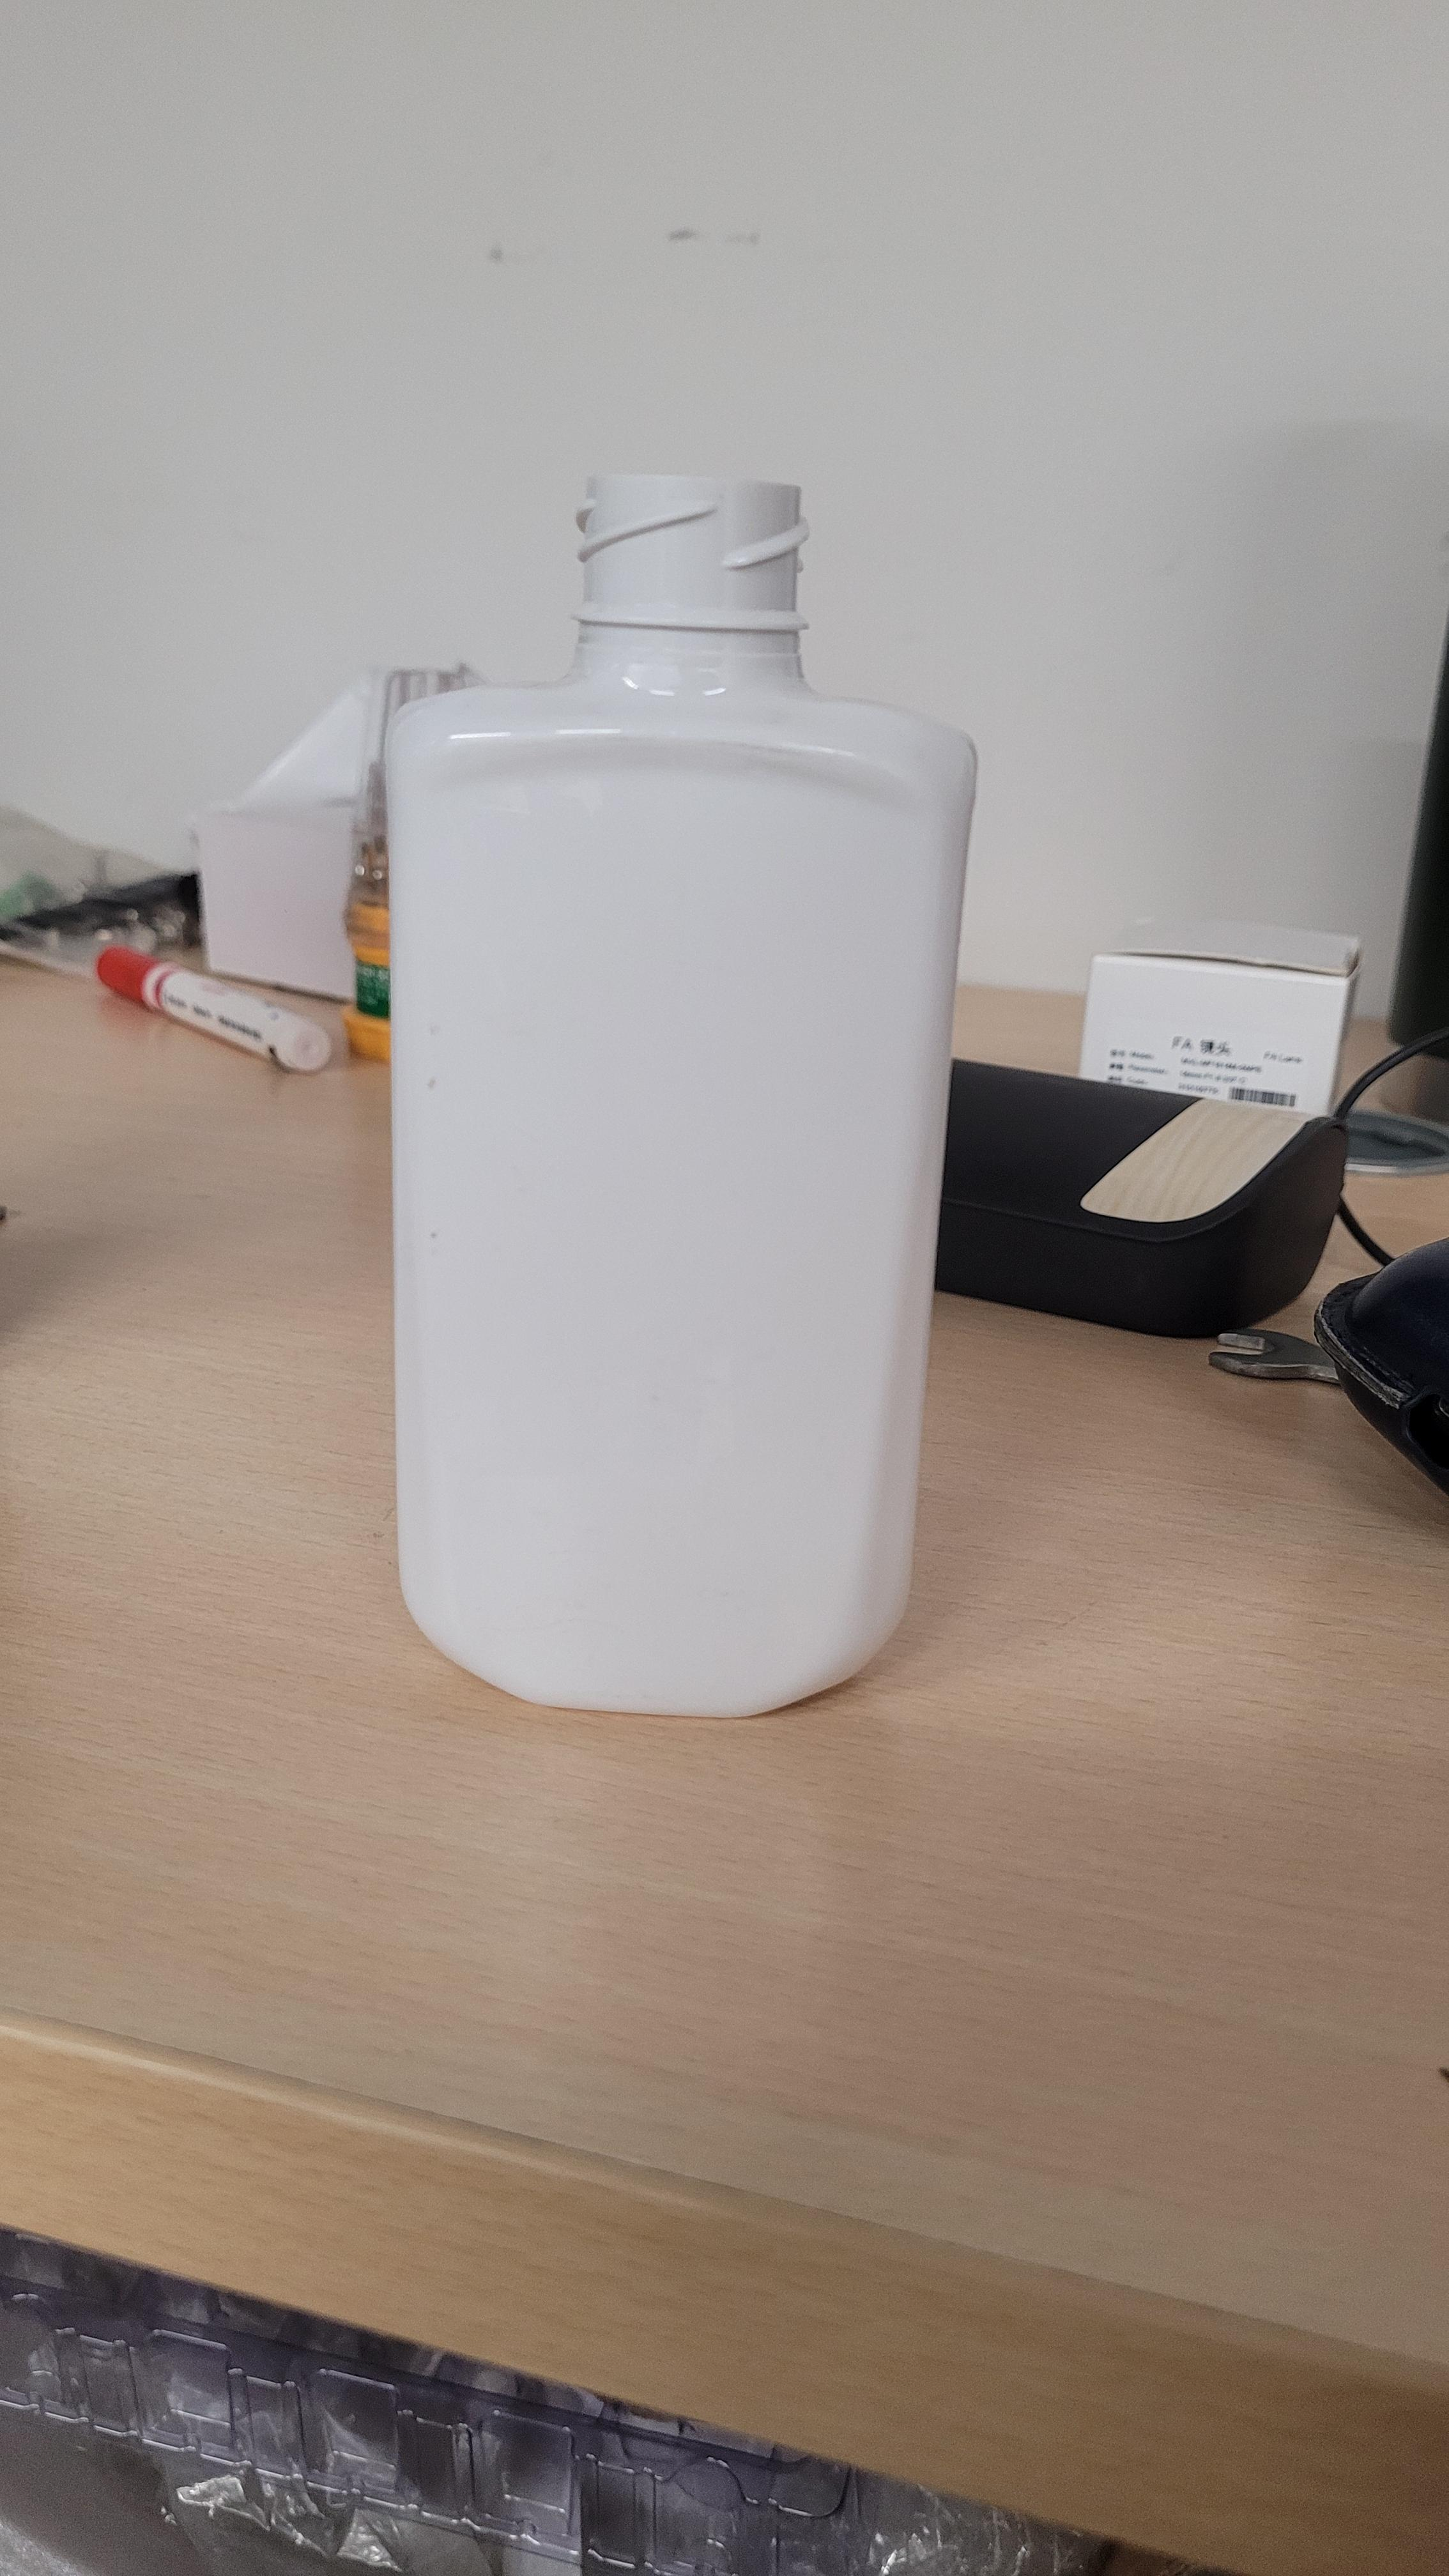Bad: (307, 410, 1049, 1814)
